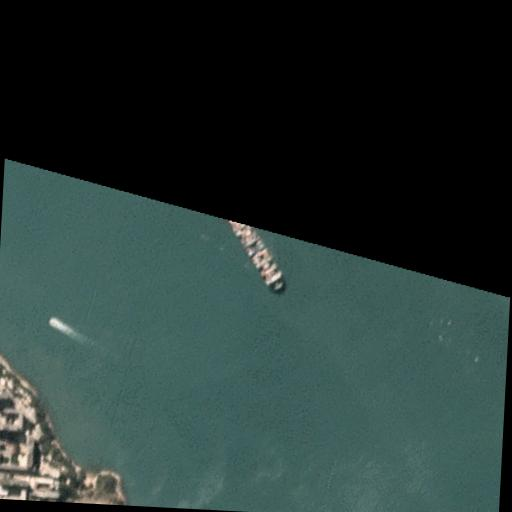ship: (224, 220, 288, 292), (48, 316, 58, 329)
